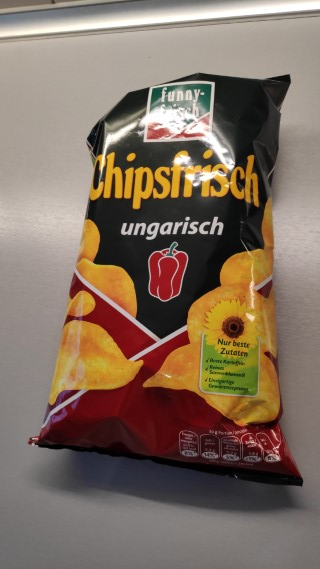chipsfrisch: (26, 70, 305, 488)
